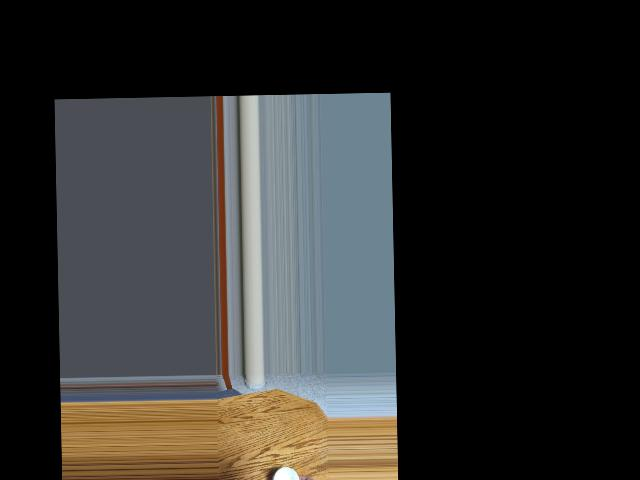cotage: (273, 465, 305, 480)
